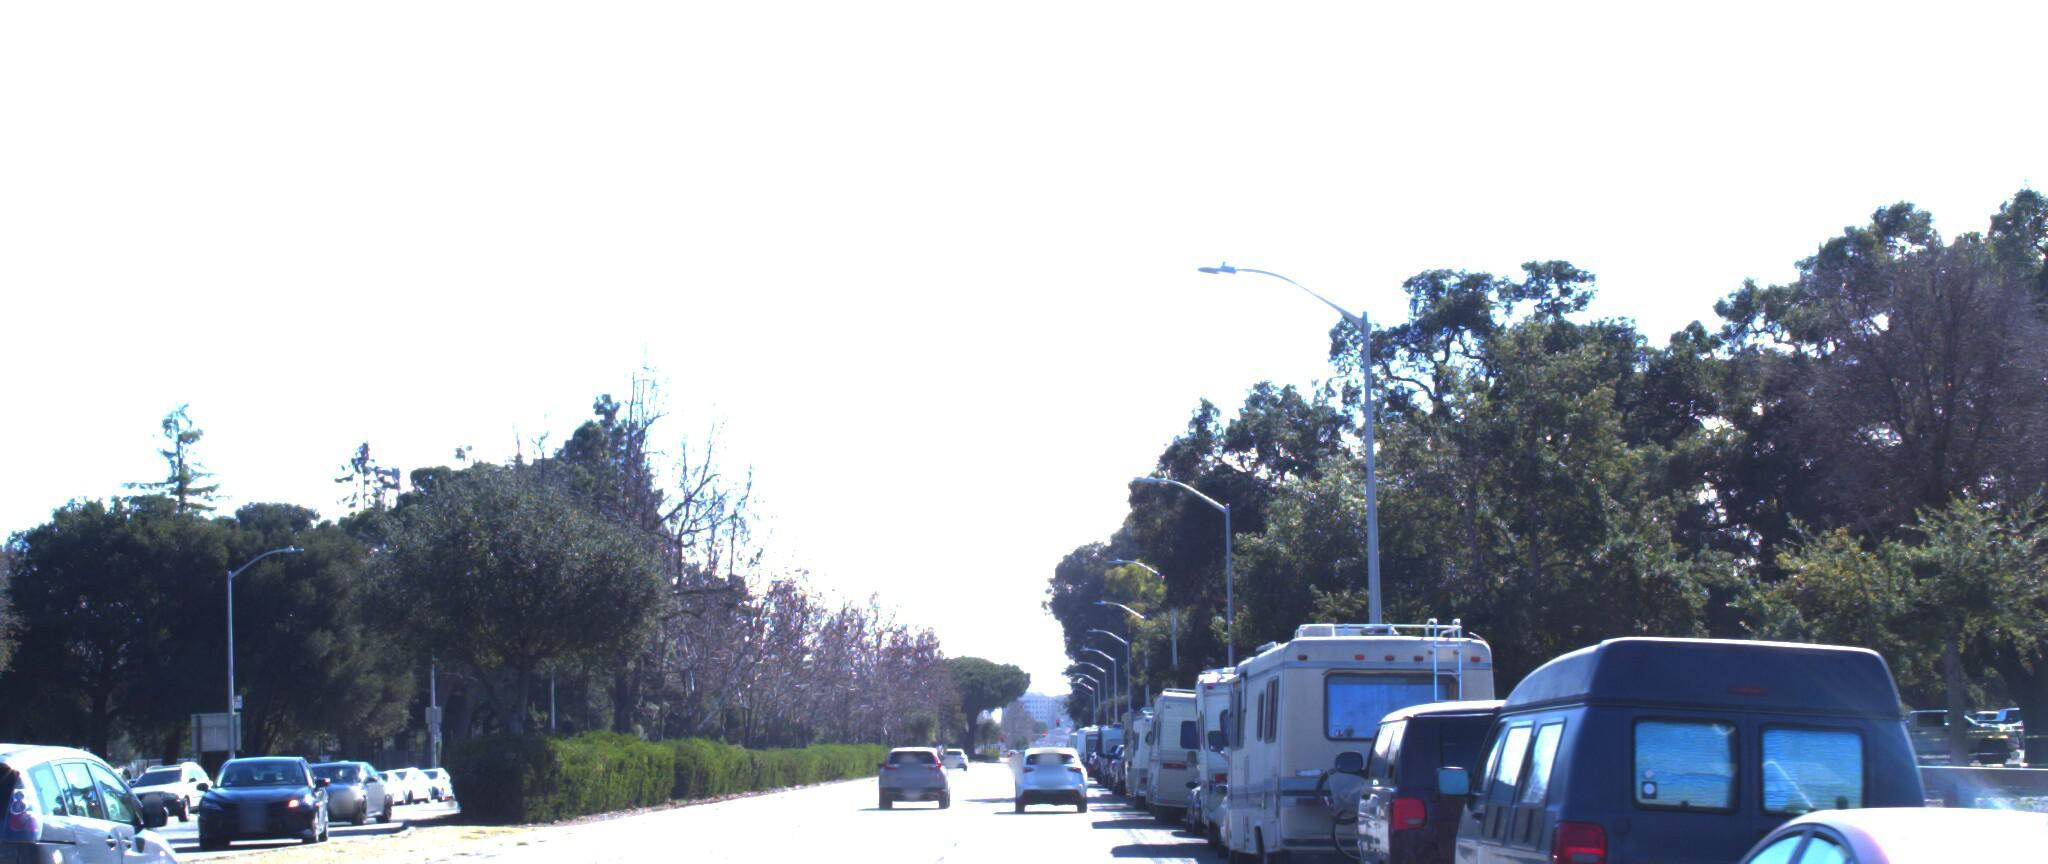car: (1379, 602, 1992, 864), (1304, 677, 1688, 864), (1869, 598, 2048, 864), (1563, 777, 2048, 864), (0, 696, 208, 864), (0, 773, 280, 864), (172, 711, 340, 841), (876, 730, 960, 797), (1014, 733, 1088, 800)
other_vehicle: (1179, 600, 1518, 864), (1169, 629, 1370, 854), (1127, 660, 1273, 814)
